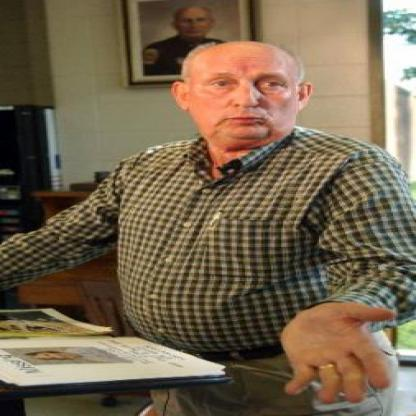face: (188, 42, 303, 145), (179, 9, 214, 35)
